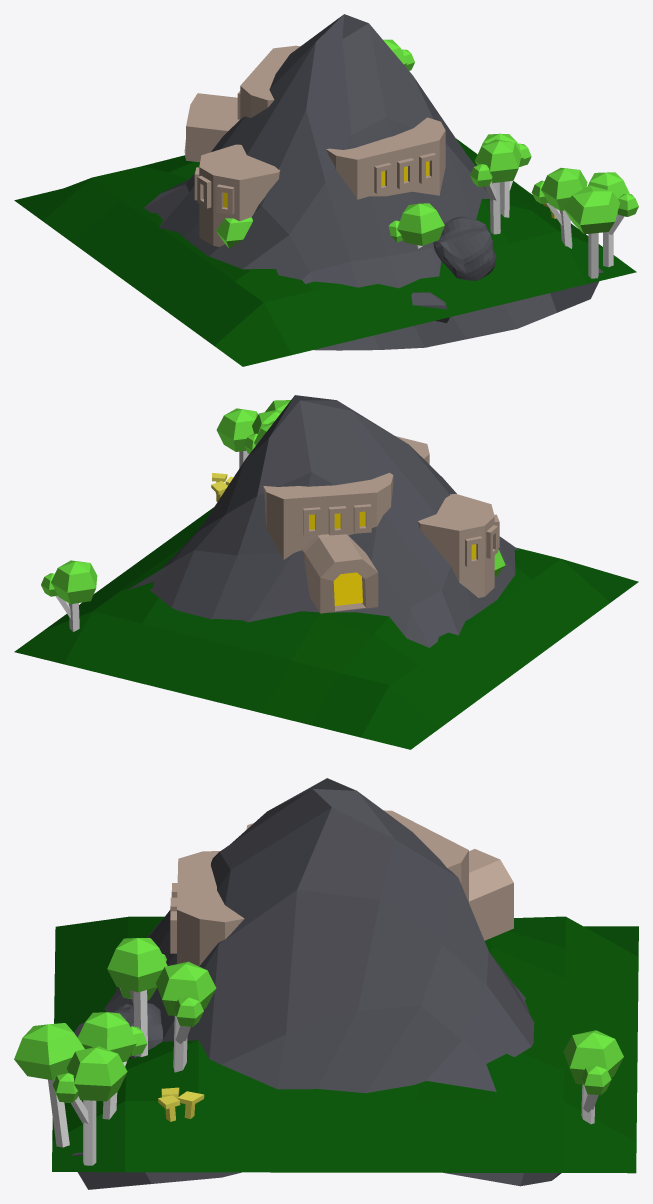
File: forest_birch_mountain.glb
3 views of the same model, one above another, from view 1: azimuth 30°, elevation 25°; view 2: azimuth 150°, elevation 25°; view 3: azimuth 270°, elevation 25° (orthographic). The views are drawn at different scales.
Parts seen in each view (by area): view 1: 0Mountain, 0mountainBOttom, Cylinder.008, MountainHouseSmall, rock2.022, Entrance.003, Sphere.153, Cylinder.211, Tree1.042, Sphere.156, Sphere.155, Tree2.031 (+2 smaller); view 2: 0mountainBOttom, 0Mountain, Cylinder.211, MountainHouseSmall, Entrance.003, Sphere.170, Sphere.146, entrance0.001; view 3: 0Mountain, 0mountainBOttom, Cylinder.008, Entrance.003, Sphere.153, Sphere.146, Sphere.156, Sphere.170, Sphere.159, Sphere.155, Cylinder.211, MushroomsNew (+7 smaller).
Boxes of the visible parts, x1,y1,x2,y2 form: 0Mountain: (144,14,603,350); 0mountainBOttom: (14,138,636,366); Cylinder.008: (326,117,445,199); MountainHouseSmall: (194,144,280,246); rock2.022: (433,216,496,280); Entrance.003: (184,93,239,162); Sphere.153: (563,185,619,234); Cylinder.211: (237,45,299,119); Tree1.042: (388,203,444,248); Sphere.156: (474,139,521,182); Sphere.155: (541,167,587,210); Tree2.031: (216,217,252,248); 0mountainBOttom: (14,507,638,749); 0Mountain: (128,395,519,647); Cylinder.211: (263,473,393,559); MountainHouseSmall: (418,493,499,597); Entrance.003: (302,534,378,613); Sphere.170: (51,560,97,604); Sphere.146: (216,408,257,451); entrance0.001: (333,572,362,605); 0Mountain: (72,778,561,1189); 0mountainBOttom: (52,916,638,1173); Cylinder.008: (170,851,244,966); Entrance.003: (469,849,513,940); Sphere.153: (14,1023,84,1080); Sphere.146: (66,1046,127,1101); Sphere.156: (107,938,167,992); Sphere.170: (563,1030,623,1084); Sphere.159: (156,961,216,1015); Sphere.155: (77,1012,136,1062); Cylinder.211: (384,810,468,902); MushroomsNew: (158,1087,204,1121).
Bounding box in the file's own units: 8.79 × 5.15 × 9.31.
